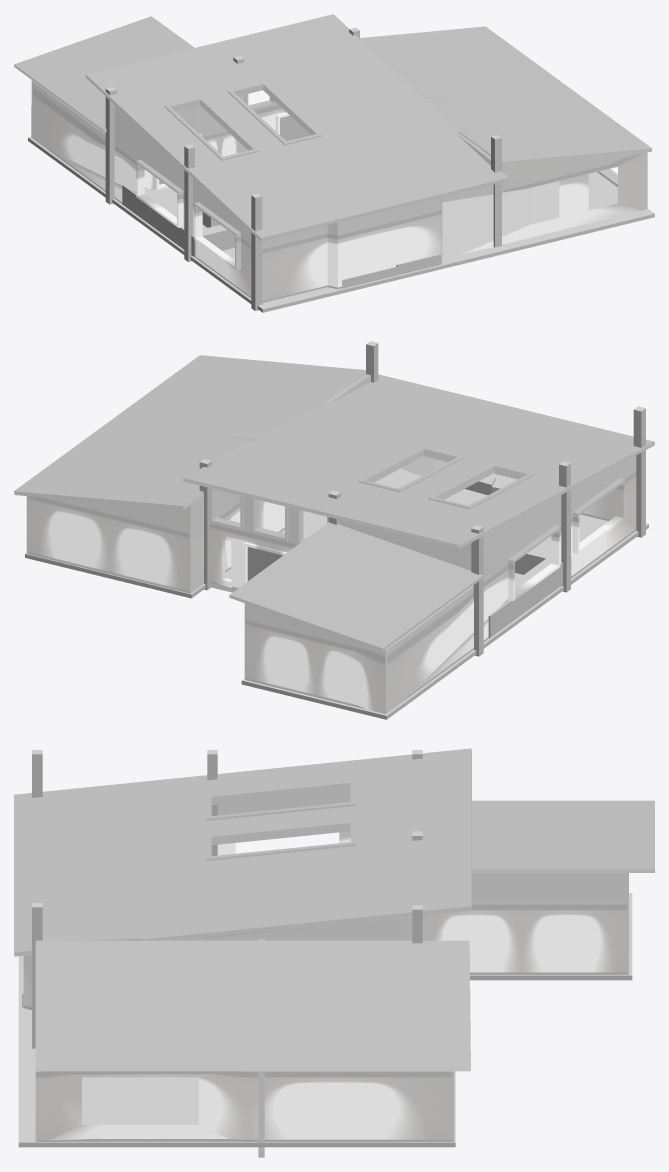
Rendered from house01-temp-blockout.glb.
3 renders of one model, top to bottom at view 1: azimuth 30°, elevation 25°; view 2: azimuth 150°, elevation 25°; view 3: azimuth 270°, elevation 25°, orthographic. The views are drawn at different scales.
Parts seen in each view (by area): view 1: ceiling, ceiling.004, ceiling.001, ceiling.002, Cube.019, ceiling.006, Cube.021, Plane.019, ceiling.005, ceiling.003, Cube.031, Cube.025 (+5 smaller); view 2: ceiling, ceiling.004, ceiling.001, ceiling.002, Cube.019, Plane.013, ceiling.006, Cube.021, Plane.016, Plane.019, Plane.011, ceiling.003 (+6 smaller); view 3: ceiling, ceiling.001, ceiling.004, ceiling.002, Cube.019, Plane.016, ceiling.003, ceiling.005, Cube.032, Plane.008.
Part boxes in pixels (<box>): ceiling: <box>85,14,508,240</box>; ceiling.004: <box>31,80,647,302</box>; ceiling.001: <box>360,26,652,165</box>; ceiling.002: <box>14,16,194,132</box>; Cube.019: <box>28,136,654,312</box>; ceiling.006: <box>136,160,240,270</box>; Cube.021: <box>122,184,234,257</box>; Plane.019: <box>113,95,241,198</box>; ceiling.005: <box>227,81,322,145</box>; ceiling.003: <box>164,97,259,160</box>; Cube.031: <box>251,193,262,310</box>; Cube.025: <box>342,254,441,288</box>; ceiling: <box>183,374,654,548</box>; ceiling.004: <box>26,455,636,714</box>; ceiling.001: <box>14,355,365,509</box>; ceiling.002: <box>229,522,483,651</box>; Cube.019: <box>25,470,648,719</box>; Plane.013: <box>209,496,298,592</box>; ceiling.006: <box>508,478,624,601</box>; Cube.021: <box>488,548,571,637</box>; Plane.016: <box>216,374,370,572</box>; Plane.019: <box>338,519,471,570</box>; Plane.011: <box>209,488,328,543</box>; ceiling.003: <box>428,464,534,509</box>; ceiling: <box>14,748,471,956</box>; ceiling.001: <box>35,940,470,1071</box>; ceiling.004: <box>23,791,628,1141</box>; ceiling.002: <box>472,800,654,872</box>; Cube.019: <box>18,893,632,1147</box>; Plane.016: <box>42,916,411,940</box>; ceiling.003: <box>206,780,355,820</box>; ceiling.005: <box>206,820,355,860</box>; Cube.032: <box>32,903,42,1048</box>; Plane.008: <box>258,939,264,1157</box>.
Bounding box in the file's own units: 28.83 × 8.26 × 30.54.
Materials: 1 (1 with a texture image).
